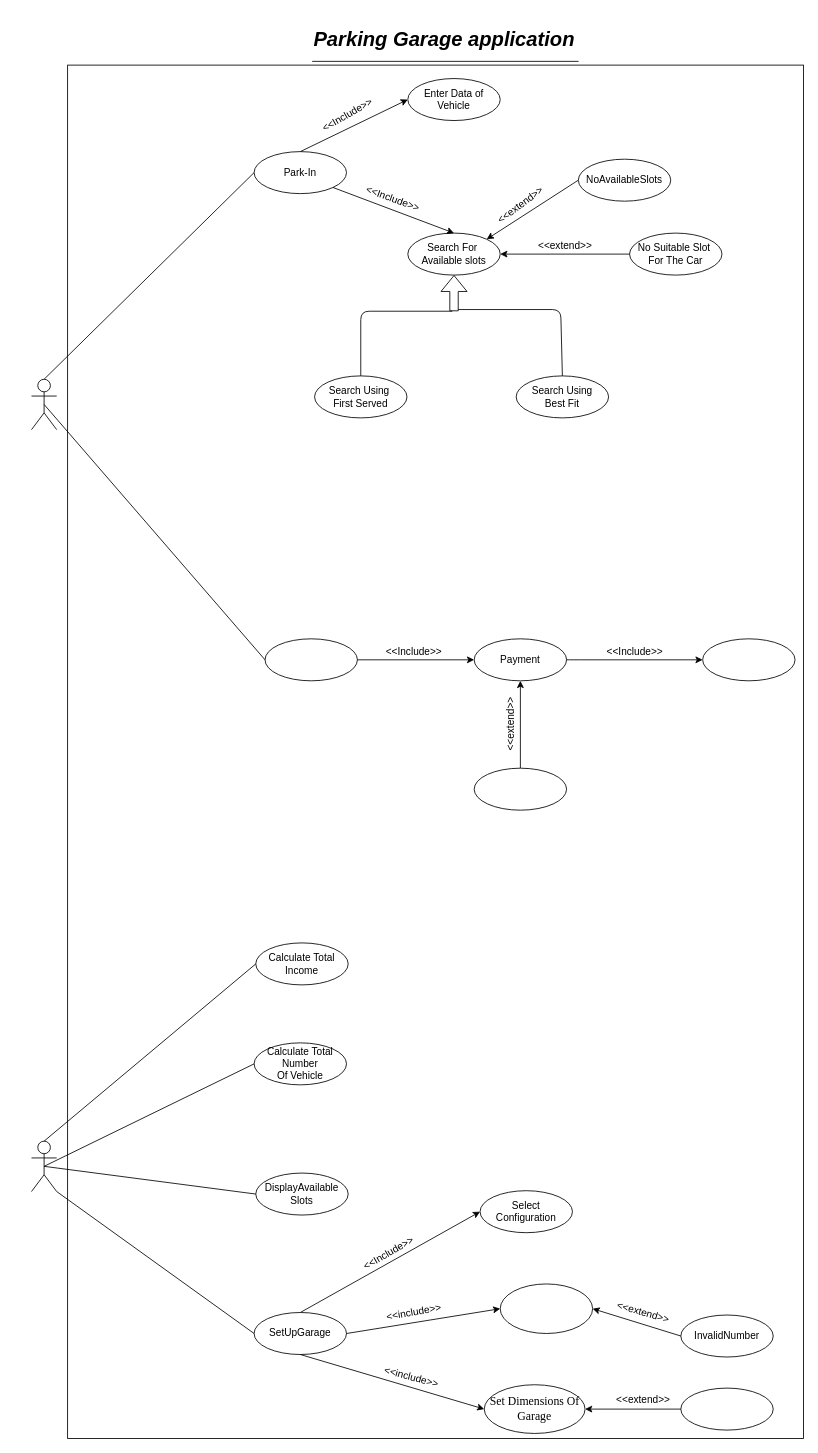
Some shapes in this 818 by 1453 pixel diagram are drawn without their labels. Here are the shapes that lost their labels. From the top down, the centre of each, then its label:
At [44,404]: "Driver".
At [310,659]: "Park-Out".
At [748,659]: "Parking Fees".
At [520,788]: "NotEnoughMoney".
At [44,1166]: "Administrator".
At [546,1308]: "Set Configurable Maximum Number Of Slots".
At [726,1408]: "InvalidDimensions".
